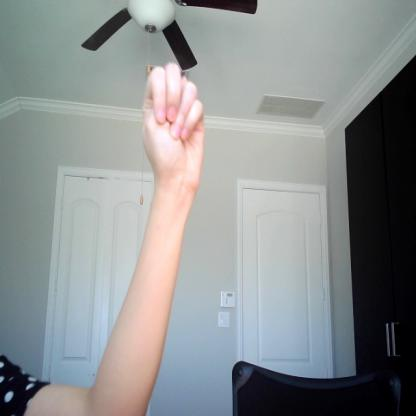N: (140, 60, 210, 192)
